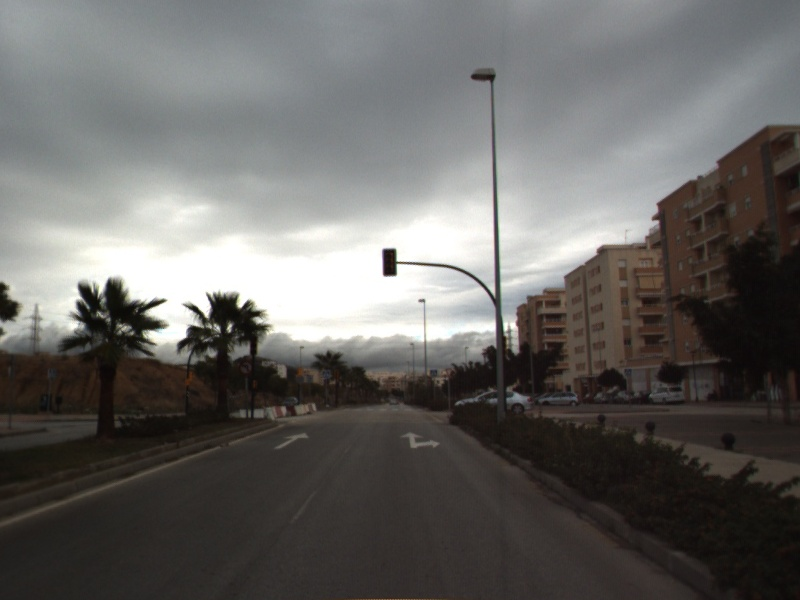STRAIGHT: (272, 430, 311, 451)
STRAIGHT_RIGHT: (398, 429, 443, 450)
